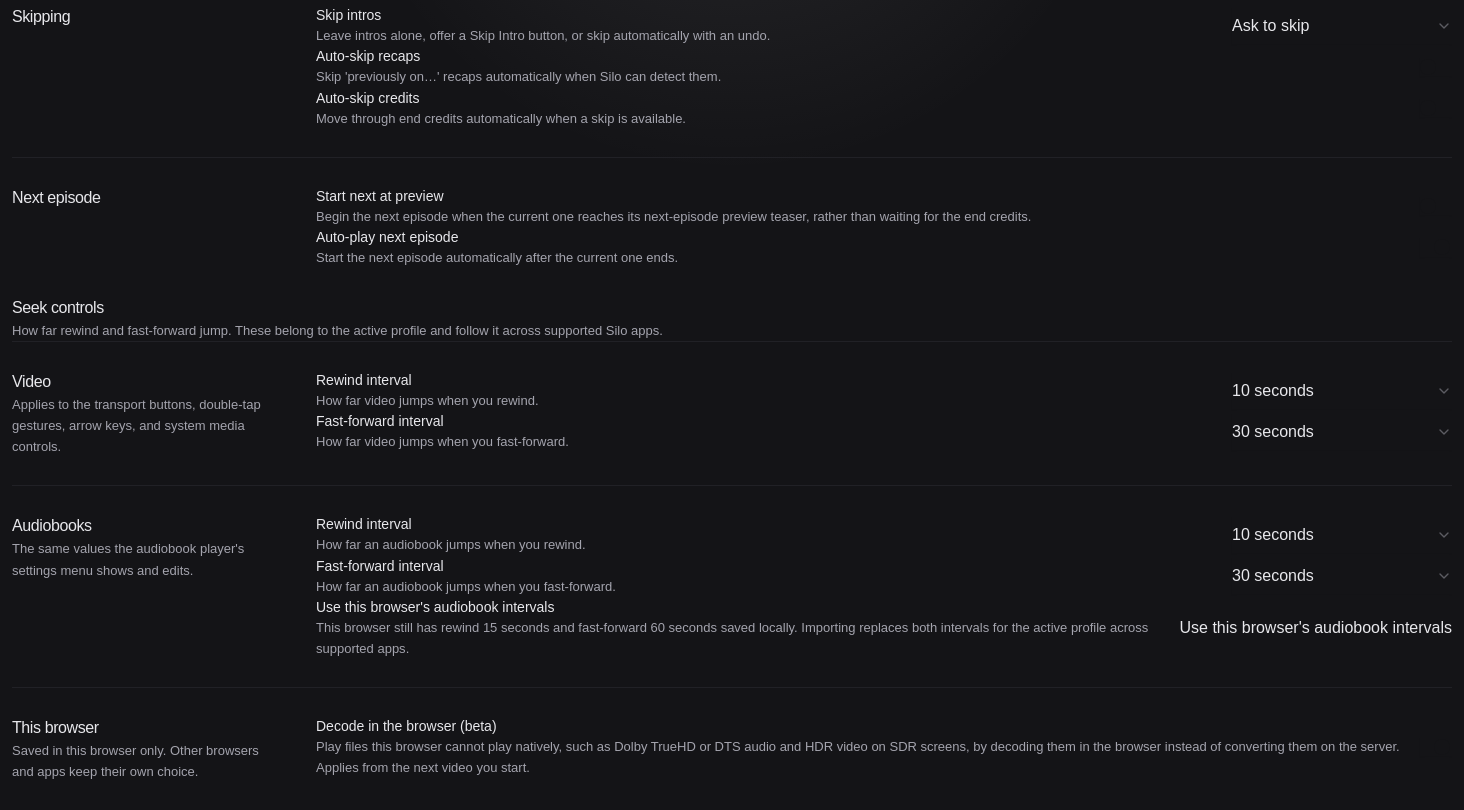
Test: PlaybackSettings › seek controls › imports only on a click, listing exactly what will be written
(page scrolled)
Expected: the text "replaces both intervals for the active profile" is shown, [316,617,1168,659]
Click the button "Use this browser's audiobook intervals" at (1316, 628), box [1180,612,1452,644]
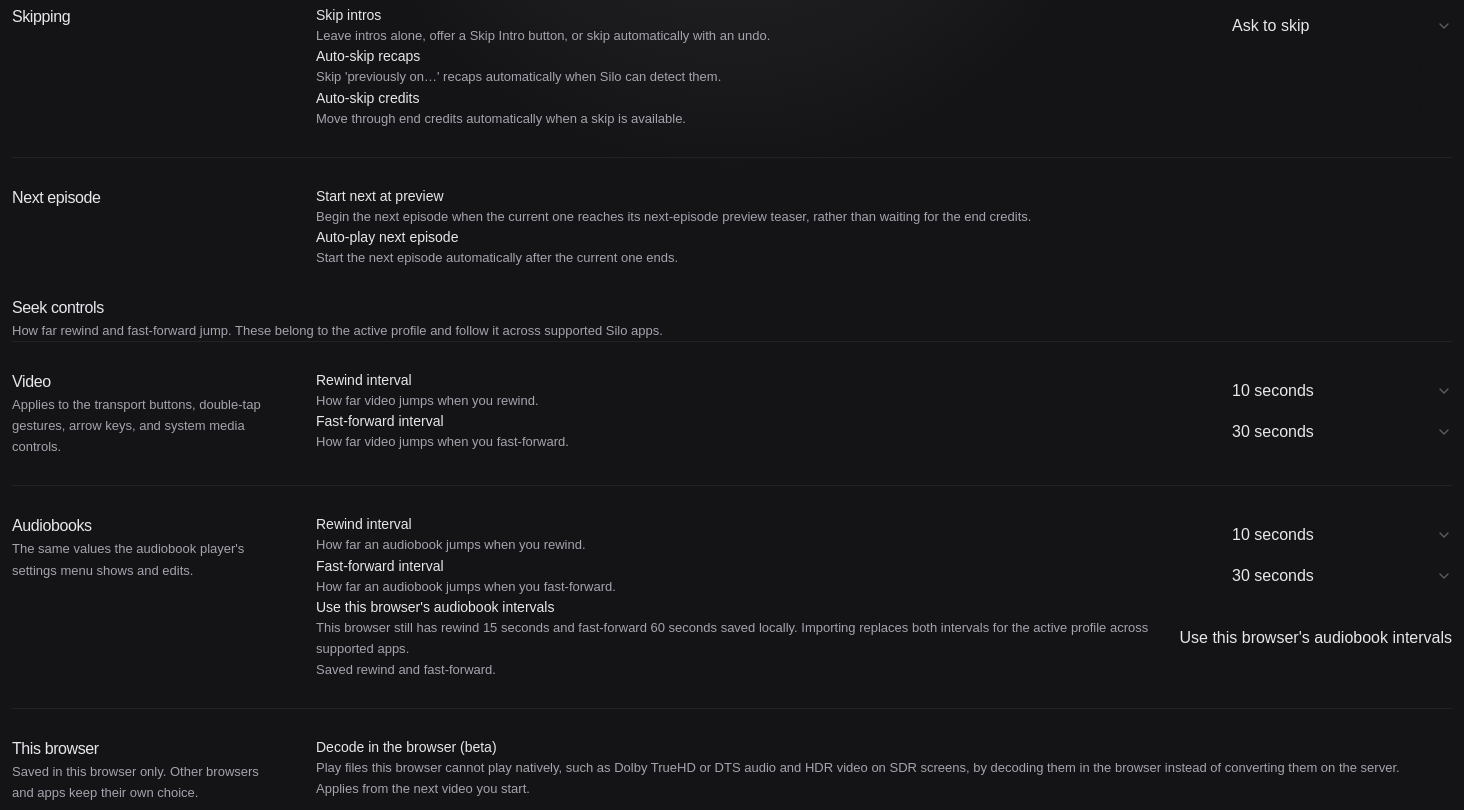
Expected: the button "Use this browser's audiobook intervals" is shown, [1180,622,1452,654]
Result: the message reads "Saved rewind and fast-forward." at [316,662,496,677]
